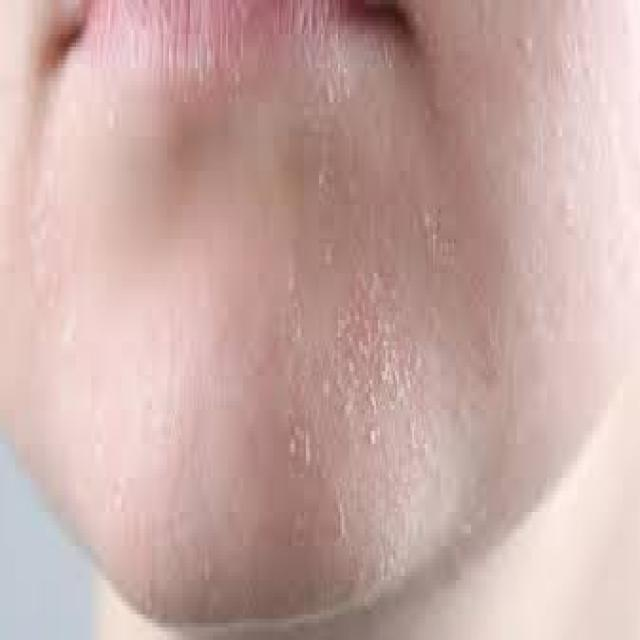flakiness: (282, 270, 439, 509)
